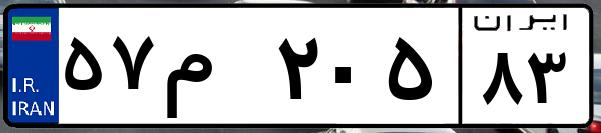0: (330, 28, 385, 110)
2: (270, 28, 330, 110)
3: (525, 38, 570, 115)
5: (385, 28, 445, 110), (57, 26, 110, 100)
7: (110, 28, 158, 98)
8: (475, 38, 525, 113)
م: (158, 20, 270, 120)
